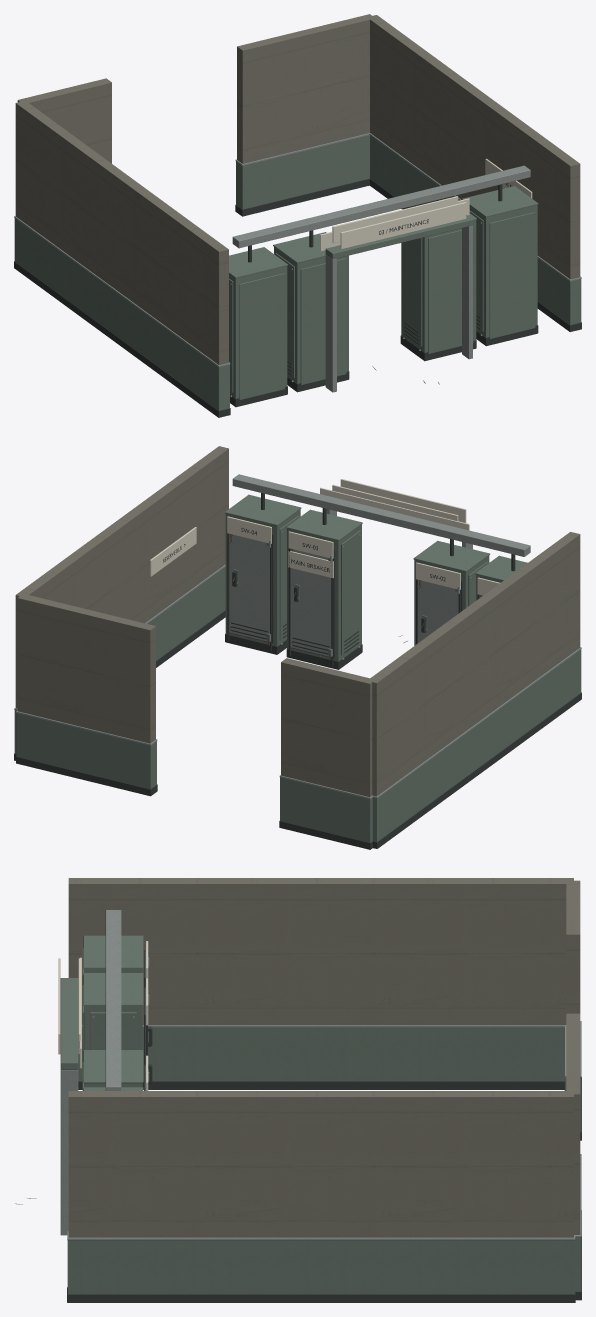
Rendered from power_switchgear.glb.
3 views of the same model, one above another, from view 1: azimuth 30°, elevation 25°; view 2: azimuth 150°, elevation 25°; view 3: azimuth 270°, elevation 25° (orthographic). The views are drawn at different scales.
Visible parts, largest first — view 1: power_switchgear / power_plaster, power_switchgear / power_sage_enamel, power_switchgear / power_galvanized, power_switchgear / power_blackened_steel, power_switchgear / power_instrument_ivory; view 2: power_switchgear / power_plaster, power_switchgear / power_sage_enamel, power_switchgear / power_galvanized, power_switchgear / power_blackened_steel, power_switchgear / power_instrument_ivory; view 3: power_switchgear / power_plaster, power_switchgear / power_sage_enamel, power_switchgear / power_blackened_steel, power_switchgear / power_galvanized, power_switchgear / power_instrument_ivory.
Part boxes in pixels (<box>): power_switchgear / power_plaster: <box>15,14,580,365</box>; power_switchgear / power_sage_enamel: <box>14,135,581,410</box>; power_switchgear / power_galvanized: <box>14,133,581,397</box>; power_switchgear / power_blackened_steel: <box>14,178,581,417</box>; power_switchgear / power_instrument_ivory: <box>320,158,532,251</box>; power_switchgear / power_plaster: <box>15,446,580,797</box>; power_switchgear / power_sage_enamel: <box>14,494,581,842</box>; power_switchgear / power_galvanized: <box>14,474,581,799</box>; power_switchgear / power_blackened_steel: <box>14,493,581,849</box>; power_switchgear / power_instrument_ivory: <box>150,479,499,595</box>; power_switchgear / power_plaster: <box>68,878,580,1237</box>; power_switchgear / power_sage_enamel: <box>60,935,581,1294</box>; power_switchgear / power_blackened_steel: <box>67,950,581,1302</box>; power_switchgear / power_galvanized: <box>60,910,581,1240</box>; power_switchgear / power_instrument_ivory: <box>58,941,148,1090</box>.
Bounding box in the file's own units: 8.27 × 3.61 × 9.02.
10 materials, 4 textured.
